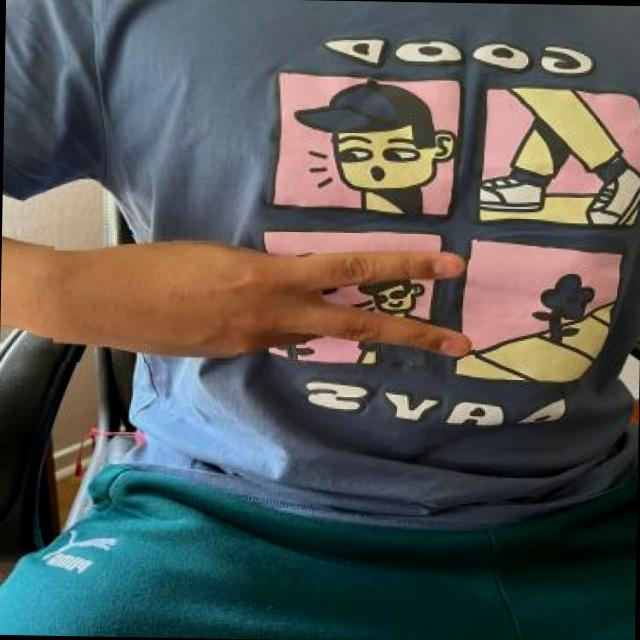H: (52, 229, 476, 370)
